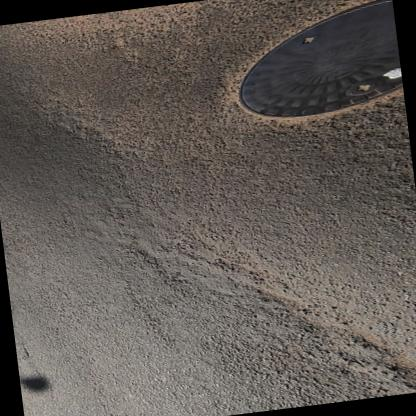manholes: (204, 0, 405, 132)
